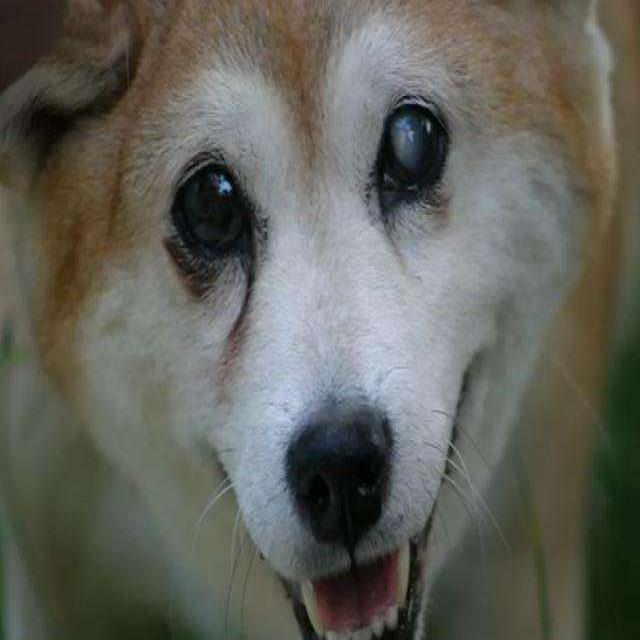eye: (168, 150, 259, 269), (366, 89, 451, 200)
